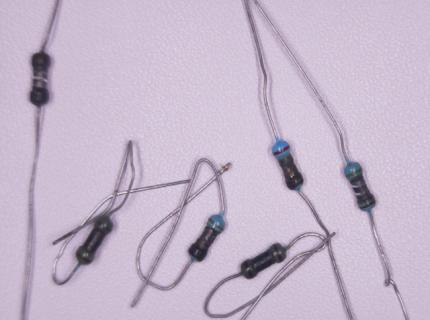resistor_faulty: (188, 211, 226, 260), (76, 214, 112, 265), (241, 243, 288, 279), (344, 159, 375, 212), (272, 139, 303, 190), (30, 51, 50, 107)
